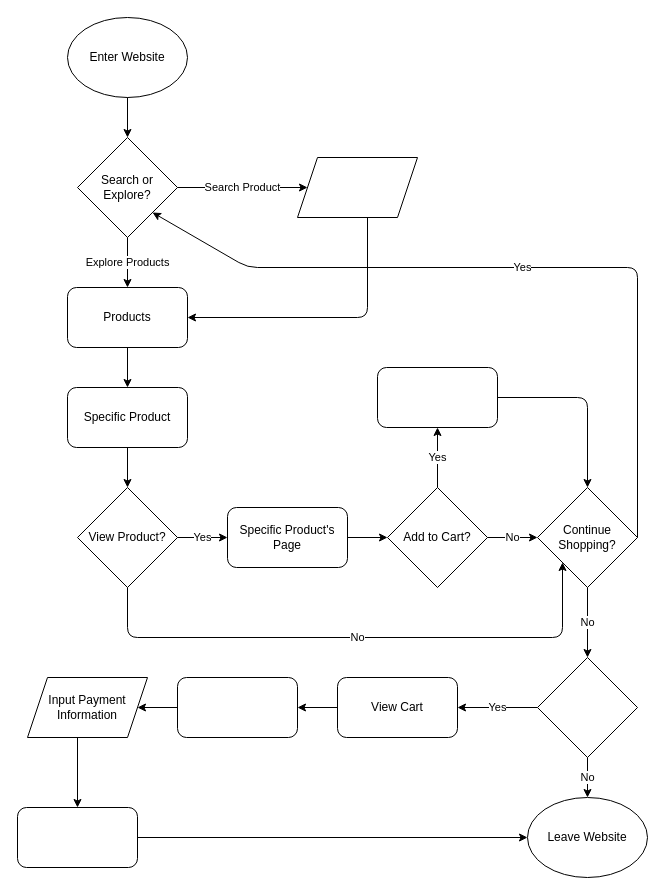
Image size: 665x895. Some labels were removed from this diagram. Here are the shapes that lost their labels. From the top down, the box of each, then its label:
(296, 156, 418, 218): Input Search
(376, 366, 498, 428): Added to Cart Confirmation
(176, 676, 298, 738): View Payment
(536, 656, 638, 758): Checkout?
(16, 806, 138, 868): Order and Email Confirmation
